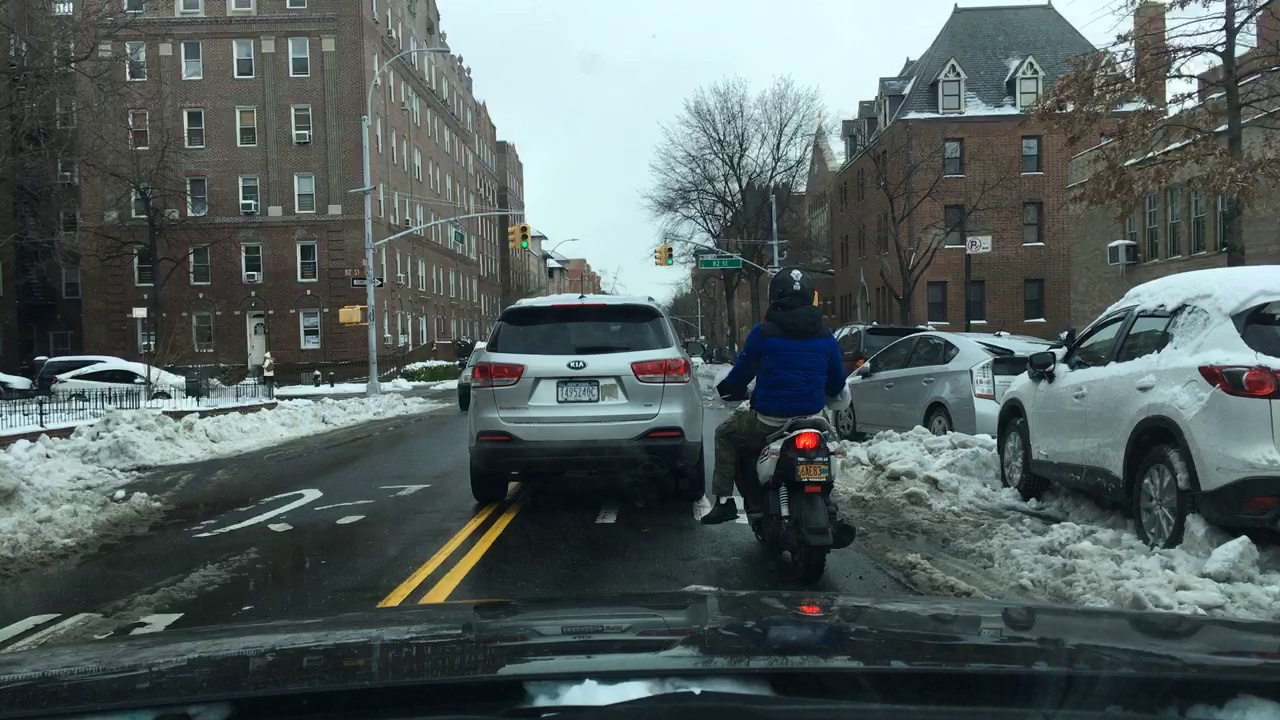car: (995, 276, 1276, 543), (463, 284, 703, 507), (840, 329, 1052, 456)
motorcycle: (716, 383, 862, 579)
person: (713, 272, 848, 519)
traffic light: (506, 218, 535, 263), (652, 237, 678, 271)
